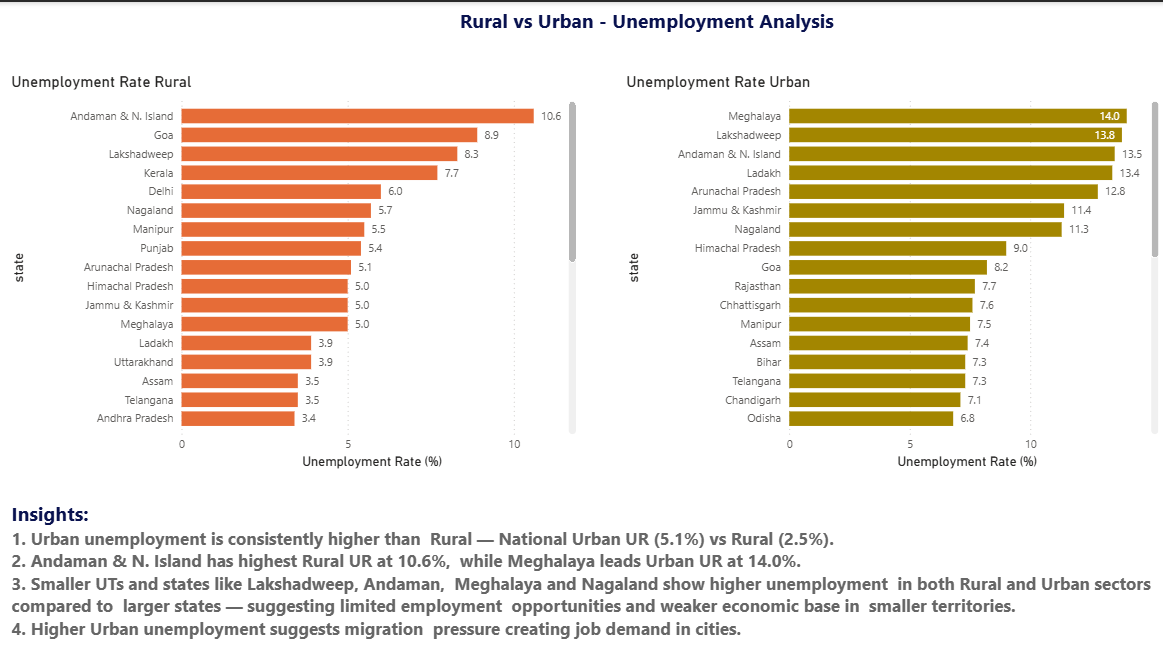

What the dashboard file says about the page in this screenshot:
{"tool":"powerbi","page":{"name":"Rural vs Urban","canvas":[1280,720],"ordinal":3},"visuals":[{"type":"textbox","box":[0,0,1280.3,49.4],"z":0},{"type":"barChart","title":"Unemployment Rate Rural","fields":{"Category":["state_data.state"],"Y":["state_data.UR_Rural"]},"box":[11,76.8,629.8,440.5],"z":1000},{"type":"barChart","title":"Unemployment Rate Urban","fields":{"Category":["state_data.state"],"Y":["state_data.UR_Urban"]},"box":[686.1,76.8,594.2,440.5],"z":2000},{"type":"textbox","box":[11,542,1269.3,178.4],"z":3000}]}

Visuals, with their boxes in screenshot pixels (x1, y1, x2, y2), scaled from the page's 1280x720 canvas onto the 1163x650 screenshot:
textbox: x1=0, y1=0, x2=1162, y2=45
"Unemployment Rate Rural" barChart: x1=10, y1=69, x2=582, y2=467
"Unemployment Rate Urban" barChart: x1=623, y1=69, x2=1162, y2=467
textbox: x1=10, y1=489, x2=1162, y2=649
